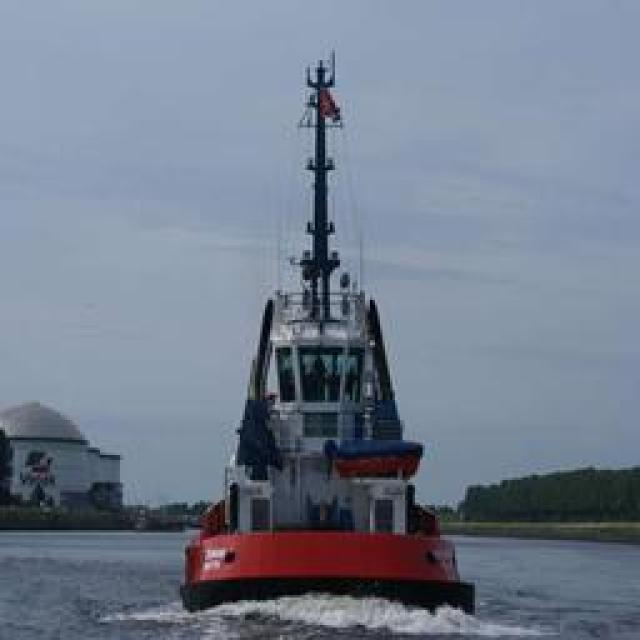CIV_Ship: (184, 42, 462, 608)
